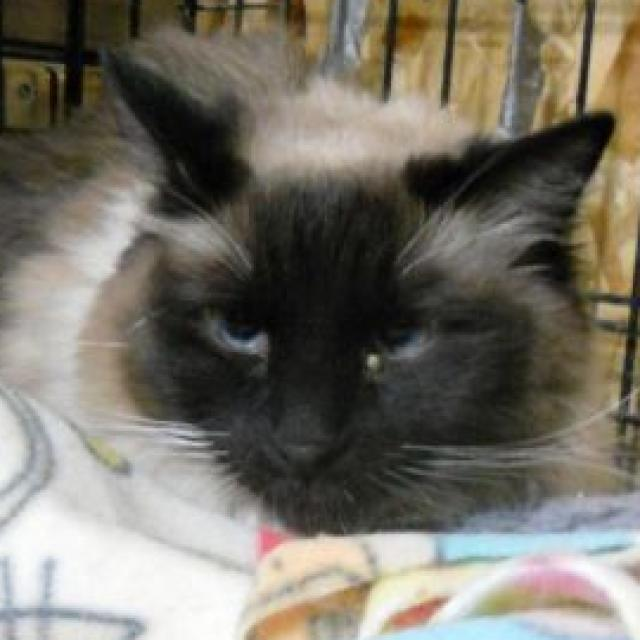Birman: (0, 24, 621, 542)
